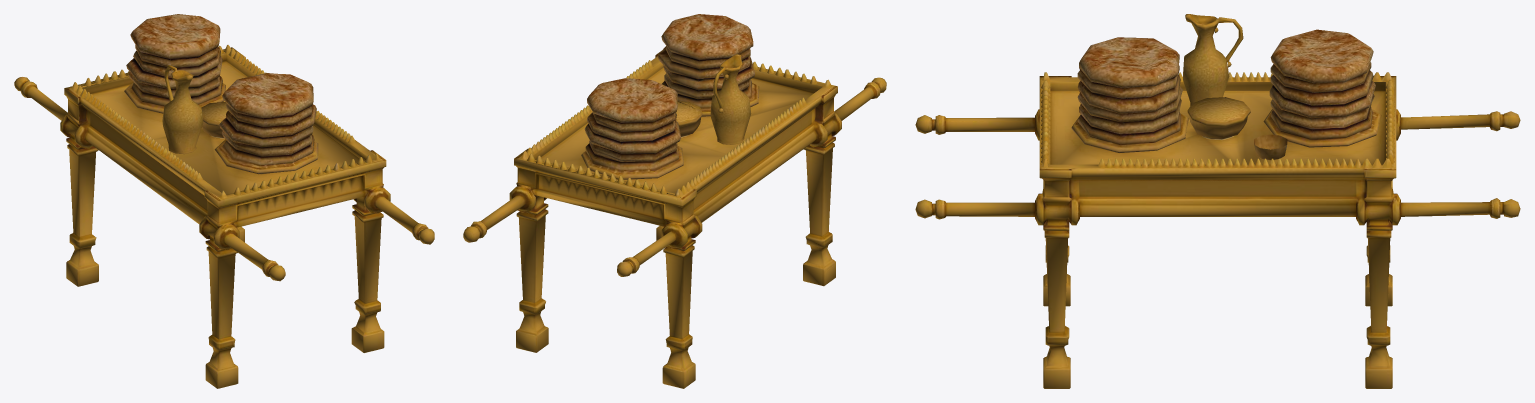
The model's file is sanctuary-showbread-table-tripo-v31-v1.glb.
The picture shows the model from 3 angles, left to right: view 1: azimuth 30°, elevation 25°; view 2: azimuth 150°, elevation 25°; view 3: azimuth 270°, elevation 25°; orthographic projection. The views are drawn at different scales.
Visible parts, largest first — view 1: tripo_node_7f94effa-a103-4422-84e4-708e124de9e9; view 2: tripo_node_7f94effa-a103-4422-84e4-708e124de9e9; view 3: tripo_node_7f94effa-a103-4422-84e4-708e124de9e9.
Part boxes in pixels (x1,y1,x2,y2): tripo_node_7f94effa-a103-4422-84e4-708e124de9e9: (14, 14, 434, 388); tripo_node_7f94effa-a103-4422-84e4-708e124de9e9: (463, 14, 886, 388); tripo_node_7f94effa-a103-4422-84e4-708e124de9e9: (915, 14, 1520, 388).
Bounding box in the file's own units: 0.3855 × 0.546 × 1.
1 material, 1 textured.
